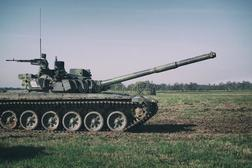t72: (2, 53, 219, 131)
